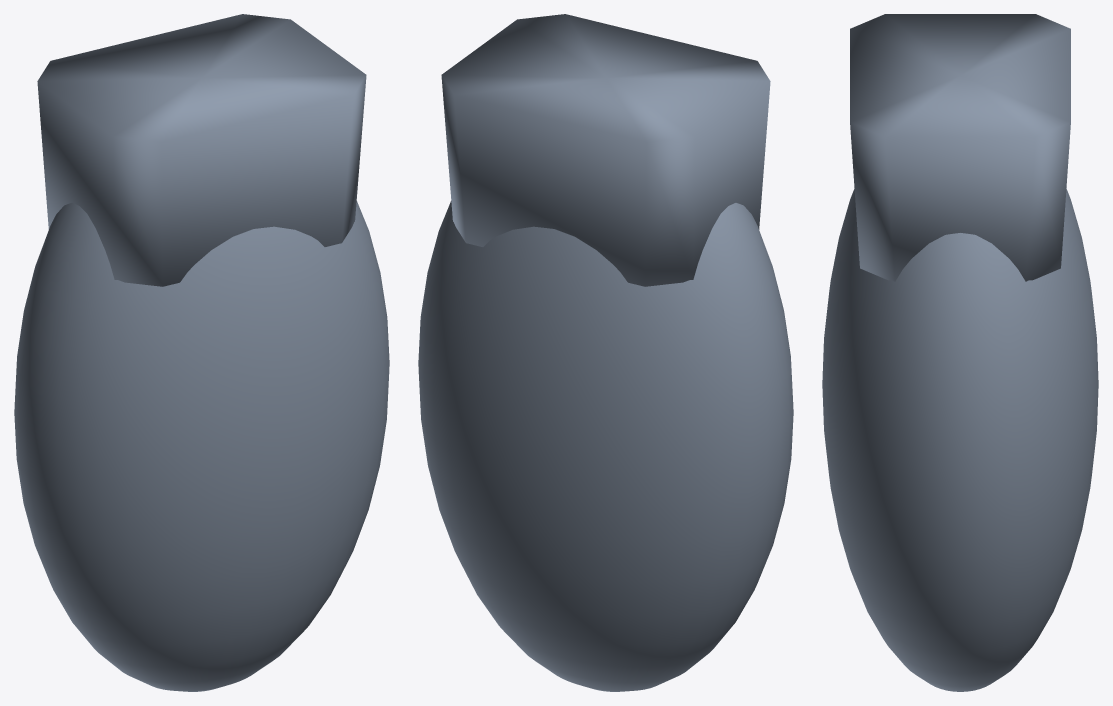
File: SM_S2_Ovale.obj
3 views of the same model, side by side, from view 1: azimuth 30°, elevation 25°; view 2: azimuth 150°, elevation 25°; view 3: azimuth 270°, elevation 25° (orthographic).
Bounding box in the file's own units: 16000 × 26560 × 11000.
